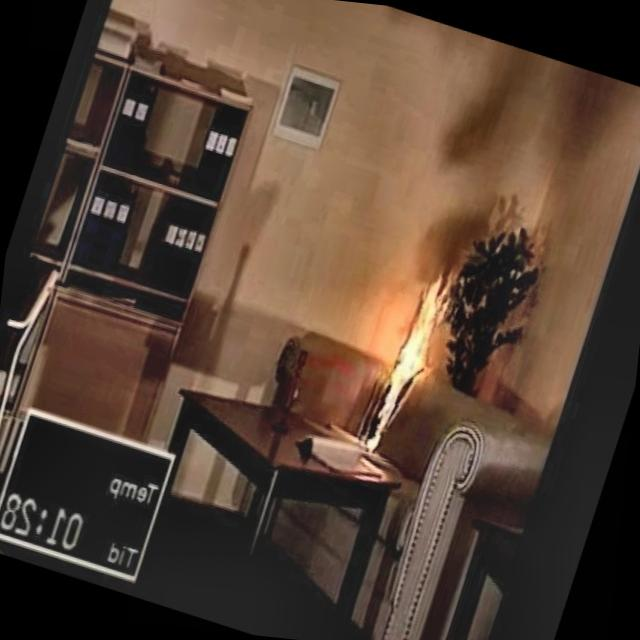fire: (352, 267, 458, 452)
